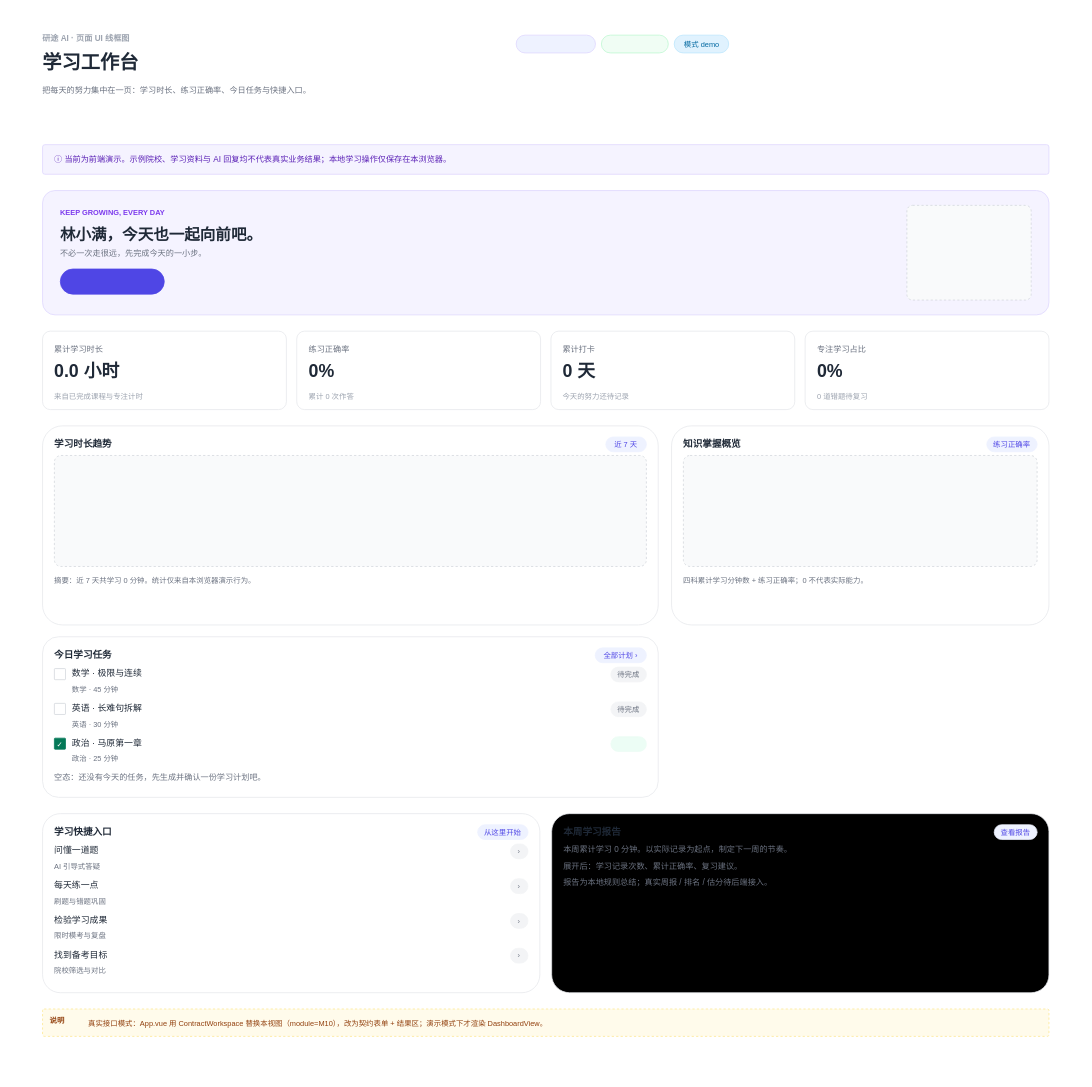
The diagram is 1092 pixels wide and 1087 high, and some of its shapes have lost their labels. The centre of each missing label's shape, as x and y in pixels:
"已完成" belongs at (628,743).
"折线图：近 7 天每天学习分钟数 ECharts line + areaStyle" belongs at (350,510).
"插图 （书籍 / 生长）" belongs at (968,252).
"查看我的学习计划 →" belongs at (112,281).
"角色 STUDENT" belongs at (634,43).
"路由 /dashboard" belongs at (555,43).
"雷达图：数学 / 英语 / 政治 / 专业课 指标 max=100，无样本显示 0" belongs at (860,510).
